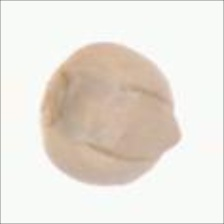L5: (77, 84, 185, 165), (38, 67, 71, 133)
L6: (34, 40, 188, 189)
